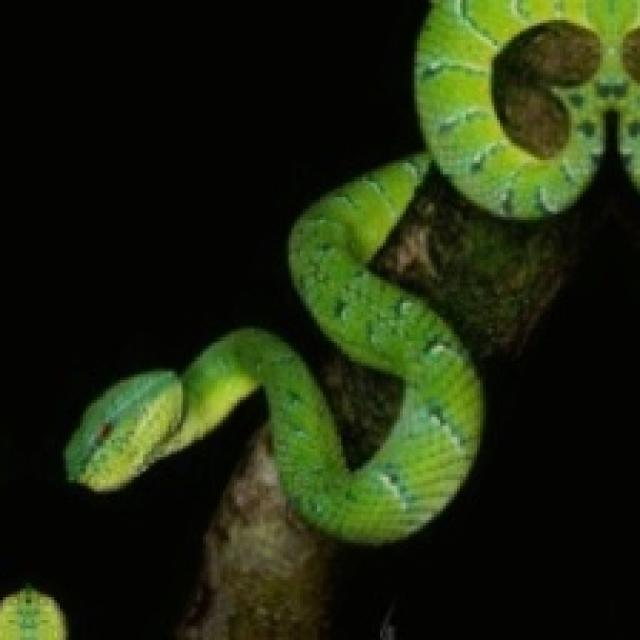north ph temple pitviper: (66, 0, 637, 540)
